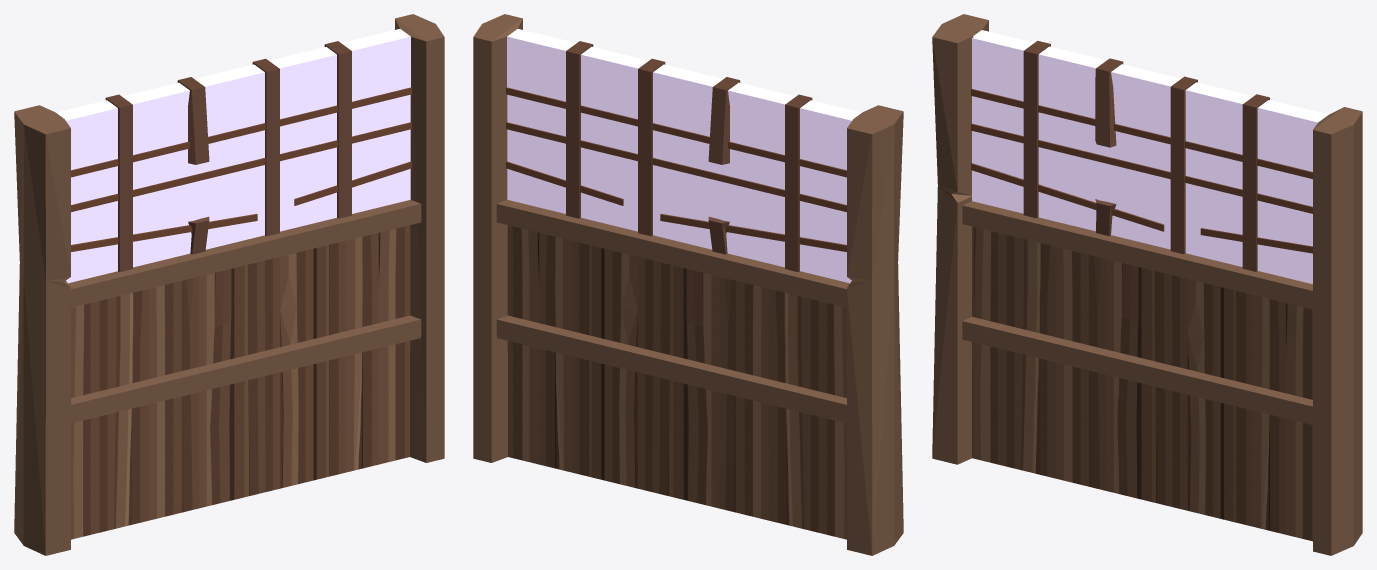
File: BuildingWall_8_2  Asia.fbx
3 views of the same model, side by side, from view 1: azimuth 30°, elevation 25°; view 2: azimuth 150°, elevation 25°; view 3: azimuth 330°, elevation 25° (orthographic).
Visible parts, largest first — view 1: BuildingWall_8_2; view 2: BuildingWall_8_2; view 3: BuildingWall_8_2.
Boxes of the visible parts, x1=… form: BuildingWall_8_2: x1=14, y1=14, x2=444, y2=555; BuildingWall_8_2: x1=473, y1=14, x2=903, y2=555; BuildingWall_8_2: x1=932, y1=14, x2=1362, y2=555.
Bounding box in the file's own units: 2 × 1.96 × 0.2654.
